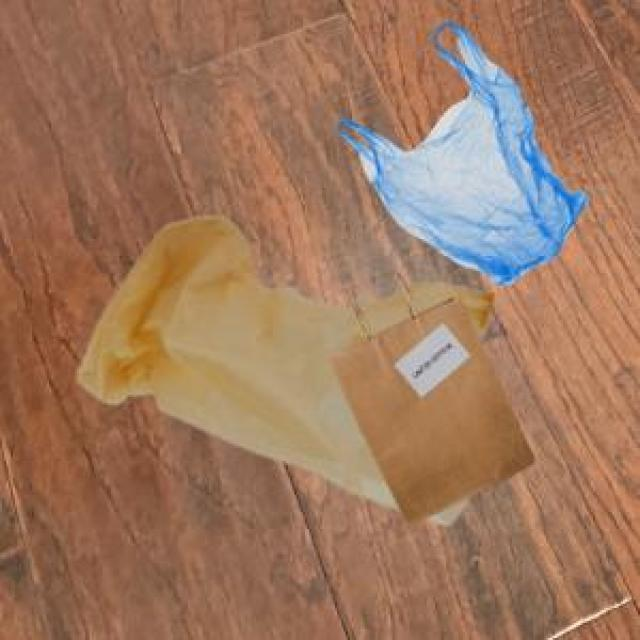paper: (324, 271, 529, 523)
